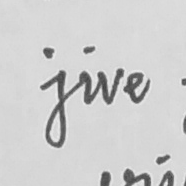e: (125, 69, 153, 105)
i: (77, 48, 94, 106)
j: (38, 67, 72, 150)
v: (96, 65, 123, 106)
